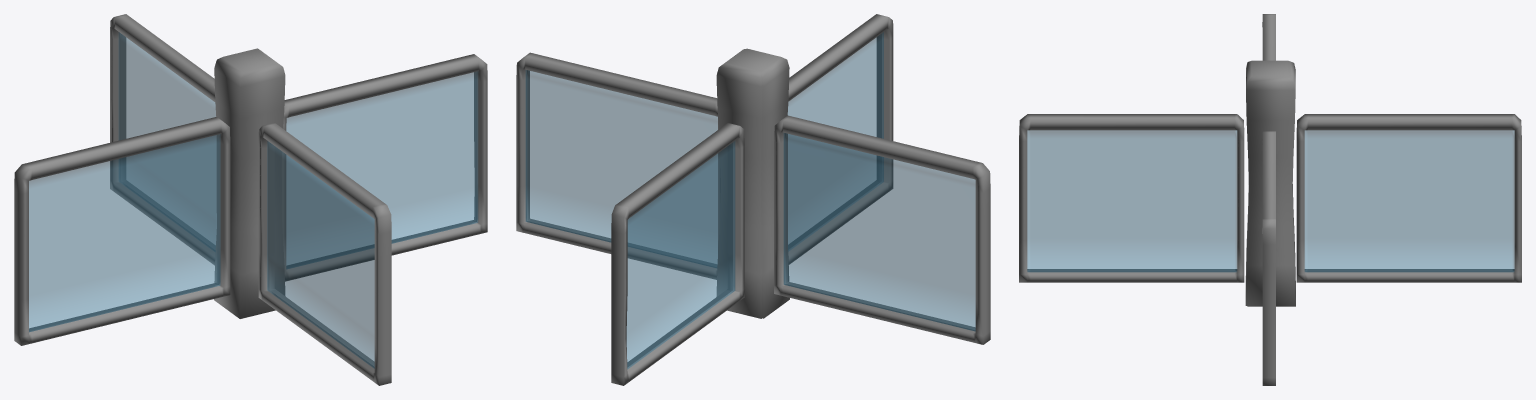
File: GlassHalfWall_Cross_Border.glb
The picture shows the model from 3 angles, left to right: view 1: azimuth 30°, elevation 25°; view 2: azimuth 150°, elevation 25°; view 3: azimuth 270°, elevation 25°; orthographic projection. The views are drawn at different scales.
Visible parts, largest first — view 1: 6-StraightGlassBorder.004, 6-StraightGlassBorder.008, 6-StraightGlassBorder.009, 6-StraightGlassBorder.007, 3-PostNARROWER.007, 3-PostNARROWER.008; view 2: 6-StraightGlassBorder.004, 6-StraightGlassBorder.008, 6-StraightGlassBorder.007, 6-StraightGlassBorder.009, 3-PostNARROWER.008, 3-PostNARROWER.007; view 3: 6-StraightGlassBorder.007, 6-StraightGlassBorder.009, 3-PostNARROWER.008, 6-StraightGlassBorder.008, 3-PostNARROWER.007, 6-StraightGlassBorder.004.
Boxes of the visible parts, x1,y1,x2,y2 form: 6-StraightGlassBorder.004: (14, 117, 230, 345); 6-StraightGlassBorder.008: (281, 54, 487, 281); 6-StraightGlassBorder.009: (258, 122, 391, 385); 6-StraightGlassBorder.007: (110, 14, 216, 265); 3-PostNARROWER.007: (214, 49, 284, 318); 3-PostNARROWER.008: (217, 48, 285, 295); 6-StraightGlassBorder.004: (774, 115, 990, 344); 6-StraightGlassBorder.008: (516, 52, 720, 279); 6-StraightGlassBorder.007: (611, 123, 744, 385); 6-StraightGlassBorder.009: (787, 14, 893, 264); 3-PostNARROWER.008: (716, 49, 778, 318); 3-PostNARROWER.007: (727, 48, 789, 318); 6-StraightGlassBorder.007: (1296, 114, 1521, 282); 6-StraightGlassBorder.009: (1019, 114, 1244, 282); 3-PostNARROWER.008: (1247, 61, 1295, 306); 6-StraightGlassBorder.008: (1262, 131, 1275, 385); 3-PostNARROWER.007: (1245, 60, 1289, 305); 6-StraightGlassBorder.004: (1262, 14, 1275, 60).
Bounding box in the file's own units: 1.99 × 0.9929 × 1.99.
Materials: 3 (3 with a texture image).
